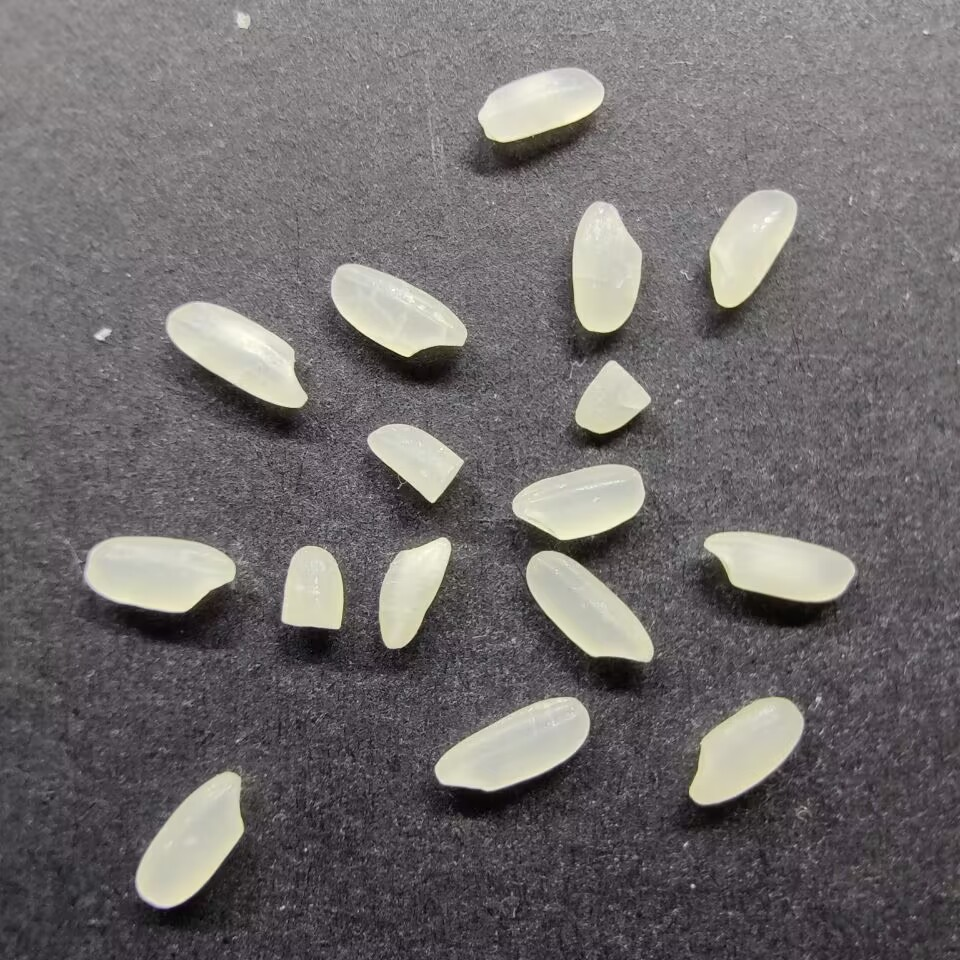broken: (365, 420, 465, 504), (571, 357, 654, 436), (277, 544, 346, 633)
rice: (161, 299, 309, 408), (135, 768, 247, 911), (430, 694, 592, 792), (526, 550, 656, 665), (328, 259, 469, 358), (685, 695, 806, 810), (81, 533, 239, 614), (509, 460, 645, 541), (702, 532, 857, 603), (707, 188, 795, 310), (476, 66, 603, 145), (569, 198, 642, 334), (375, 535, 453, 652)
